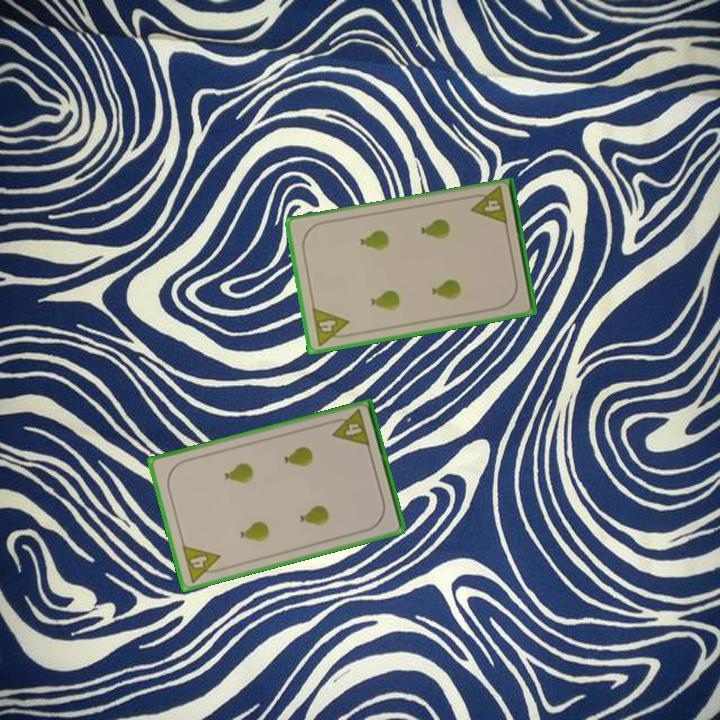4p: (308, 304, 354, 349), (326, 406, 373, 450), (178, 542, 226, 585), (466, 184, 510, 228)
